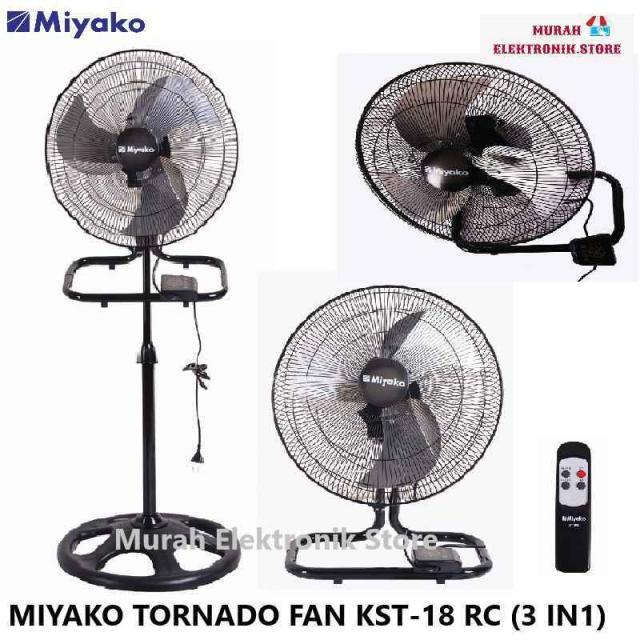fan: (29, 48, 634, 592)
